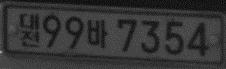3: (140, 19, 160, 54)
4: (186, 21, 209, 56)
5: (164, 20, 184, 55)
7: (117, 18, 137, 52)
9: (42, 13, 61, 48), (65, 15, 84, 49)
대전_V: (19, 11, 41, 48)
바: (86, 18, 107, 49)
